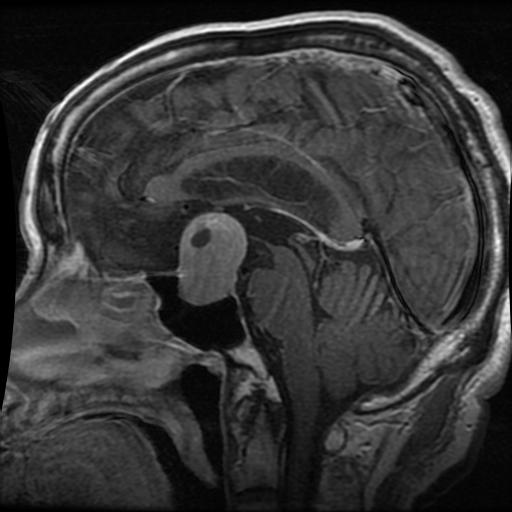Pituirity_tumour: (177, 210, 246, 304)
